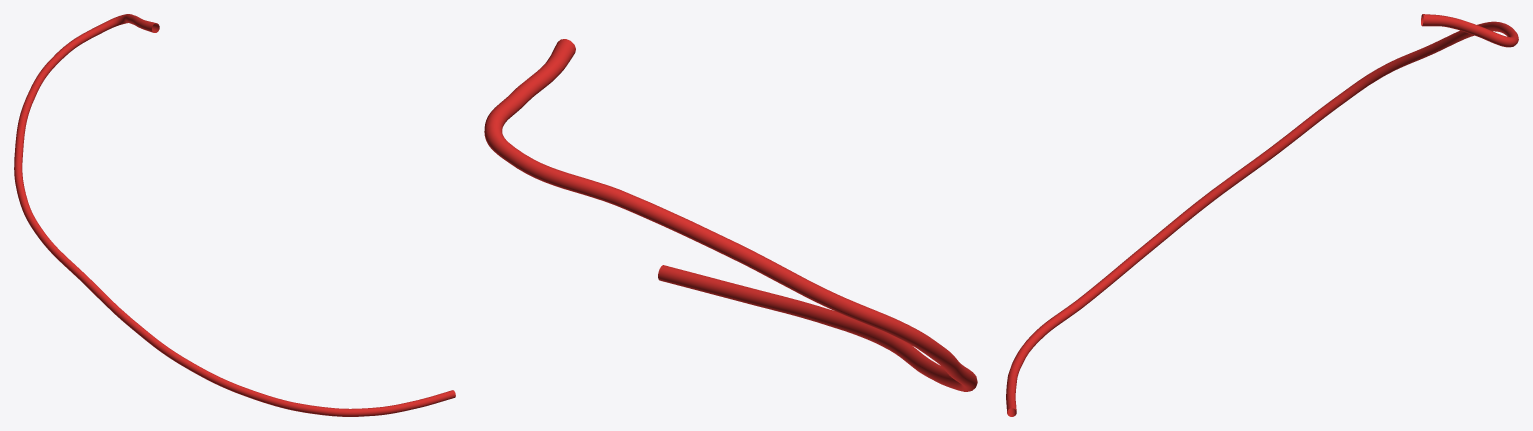
Rendered from circulatorio-second-posterior-intercostal-artery-r.glb.
3 renders of one model, left to right at view 1: azimuth 30°, elevation 25°; view 2: azimuth 150°, elevation 25°; view 3: azimuth 270°, elevation 25°, orthographic. The views are drawn at different scales.
Visible parts, largest first — view 1: Second posterior intercostal artery.r; view 2: Second posterior intercostal artery.r; view 3: Second posterior intercostal artery.r.
Boxes of the visible parts, <box> form: Second posterior intercostal artery.r: <box>14,14,455,416</box>; Second posterior intercostal artery.r: <box>484,39,977,391</box>; Second posterior intercostal artery.r: <box>1006,14,1518,416</box>.
Size of the model in its own units: 0.0788 by 0.0746 by 0.1046.
